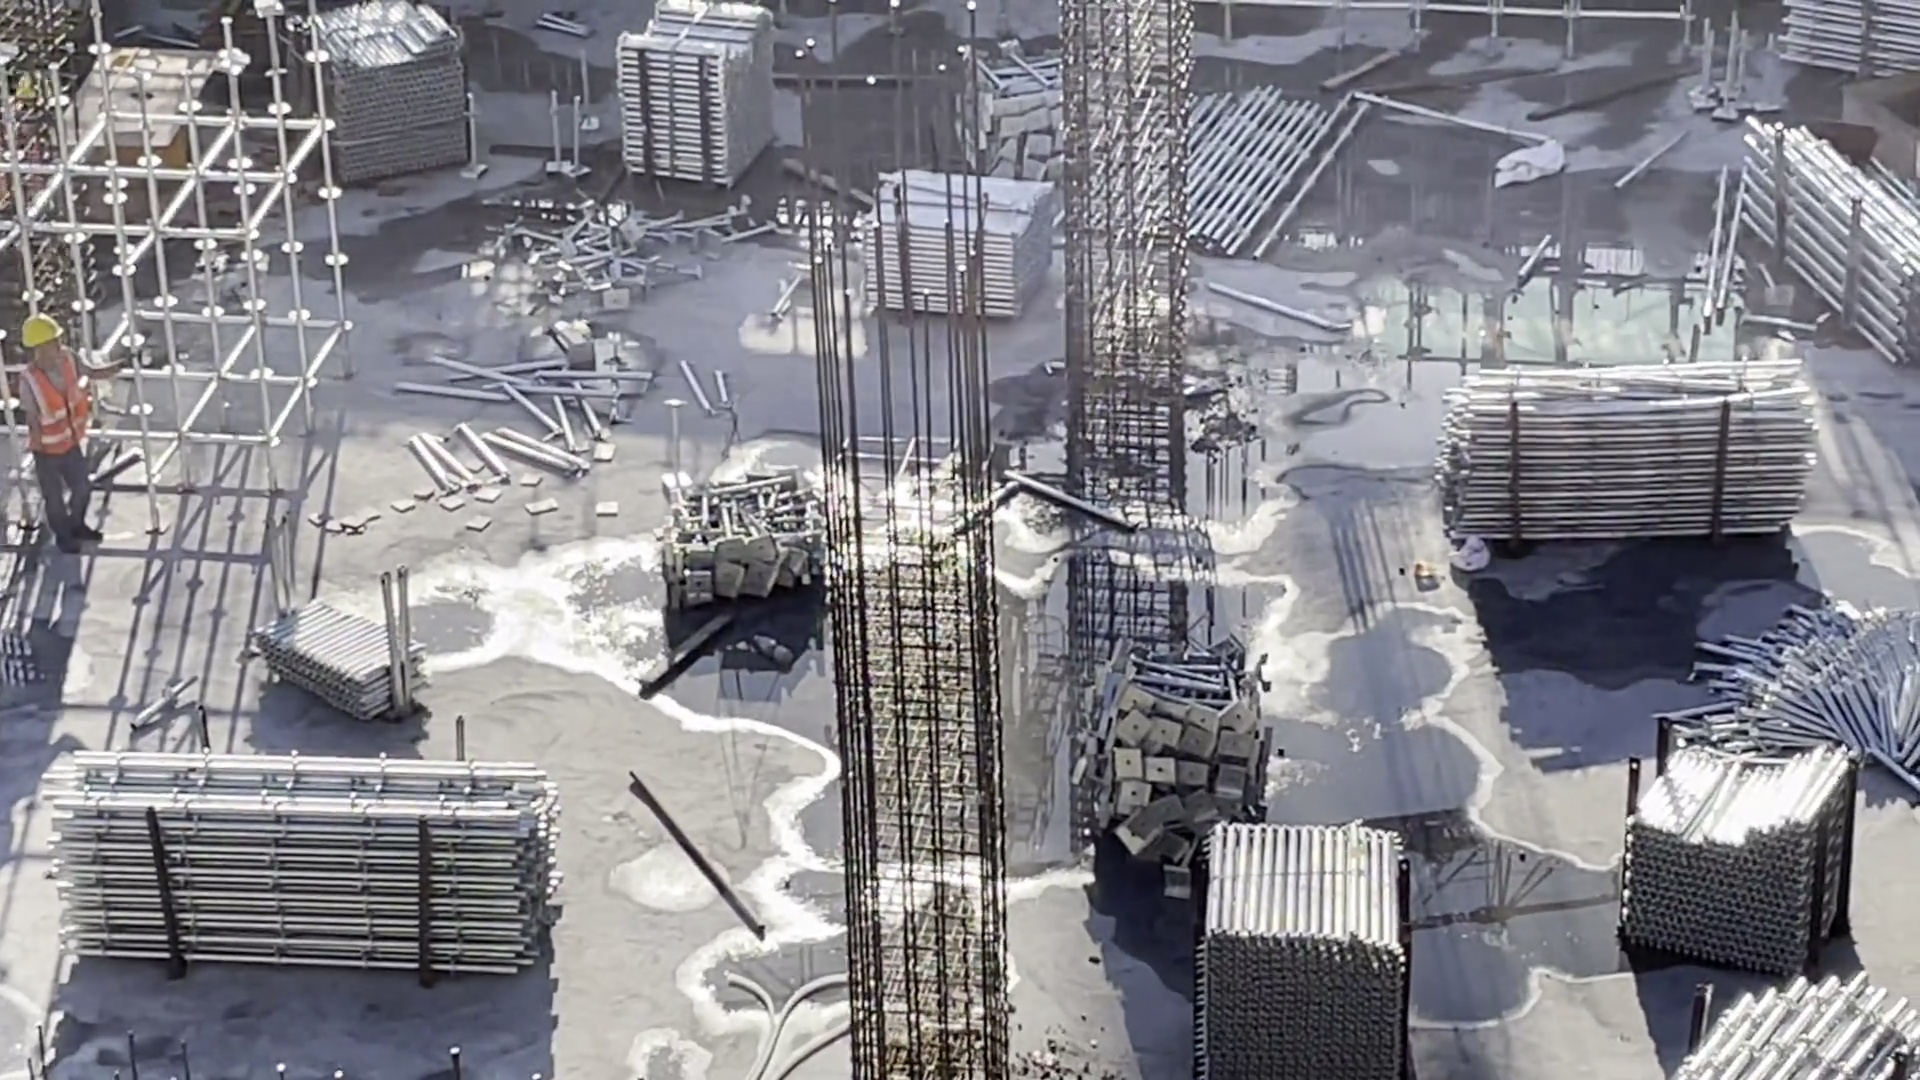cutter: (81, 46, 238, 190)
helmet: (14, 309, 70, 349), (18, 64, 48, 108)
person: (21, 316, 121, 574), (1, 64, 62, 239)
scaffold: (49, 737, 567, 975), (1448, 368, 1799, 546), (1616, 738, 1858, 974), (1199, 826, 1422, 1080), (1080, 661, 1280, 899), (1734, 122, 1920, 356), (1147, 92, 1387, 247), (277, 1, 467, 180), (954, 28, 1135, 205), (1715, 602, 1920, 758), (856, 169, 1066, 321), (613, 13, 761, 199), (1648, 975, 1907, 1080), (252, 576, 419, 712), (653, 473, 835, 593), (553, 216, 699, 314), (1782, 9, 1920, 75)
vest: (23, 358, 100, 450)
